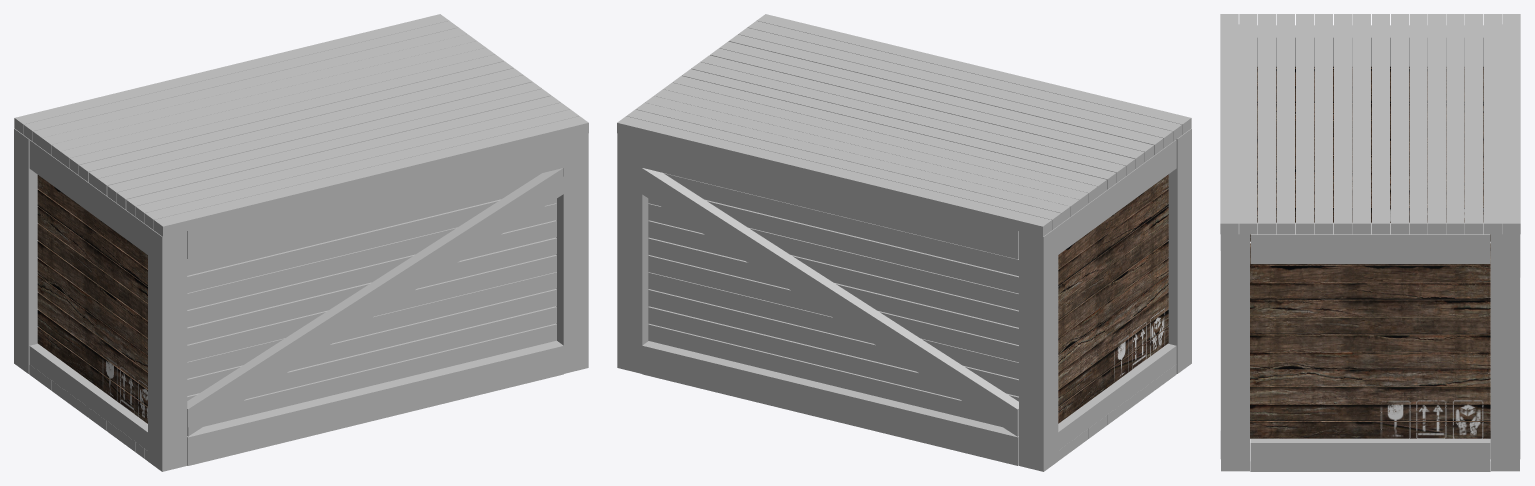
The picture shows the model from 3 angles, left to right: view 1: azimuth 30°, elevation 25°; view 2: azimuth 150°, elevation 25°; view 3: azimuth 270°, elevation 25°; orthographic projection.
Parts seen in each view (by area): view 1: Model_031_Crate_Box_08, Model_031_Crate_Box_04, Model_031_Crate_Box_02, Model_031_Crate_Box_07, Model_031_Crate_Box_10, Model_031_Crate_Box_03, Model_031_Crate_Box_00, Model_031_Crate_Box_01, Model_031_Crate_Box_09; view 2: Model_031_Crate_Box_08, Model_031_Crate_Box_05, Model_031_Crate_Box_02, Model_031_Crate_Box_07, Model_031_Crate_Box_10, Model_031_Crate_Box_03, Model_031_Crate_Box_00, Model_031_Crate_Box_01, Model_031_Crate_Box_09; view 3: Model_031_Crate_Box_08, Model_031_Crate_Box_06, Model_031_Crate_Box_01, Model_031_Crate_Box_00, Model_031_Crate_Box_07, Model_031_Crate_Box_02.
Part boxes in pixels (<box>): Model_031_Crate_Box_08: <box>14,14,588,236</box>; Model_031_Crate_Box_04: <box>187,173,556,426</box>; Model_031_Crate_Box_02: <box>187,139,563,465</box>; Model_031_Crate_Box_07: <box>37,175,147,423</box>; Model_031_Crate_Box_10: <box>14,128,187,471</box>; Model_031_Crate_Box_03: <box>187,168,563,436</box>; Model_031_Crate_Box_00: <box>556,133,588,373</box>; Model_031_Crate_Box_01: <box>29,140,147,450</box>; Model_031_Crate_Box_09: <box>29,364,147,460</box>; Model_031_Crate_Box_08: <box>617,14,1191,236</box>; Model_031_Crate_Box_05: <box>648,173,1018,426</box>; Model_031_Crate_Box_02: <box>642,139,1018,465</box>; Model_031_Crate_Box_07: <box>1058,174,1168,423</box>; Model_031_Crate_Box_10: <box>1019,128,1191,471</box>; Model_031_Crate_Box_03: <box>642,168,1018,436</box>; Model_031_Crate_Box_00: <box>617,133,649,373</box>; Model_031_Crate_Box_01: <box>1058,140,1176,451</box>; Model_031_Crate_Box_09: <box>1058,364,1176,460</box>; Model_031_Crate_Box_08: <box>1220,14,1520,234</box>; Model_031_Crate_Box_06: <box>1250,243,1490,438</box>; Model_031_Crate_Box_01: <box>1250,25,1490,471</box>; Model_031_Crate_Box_00: <box>1221,222,1519,471</box>; Model_031_Crate_Box_07: <box>1250,66,1490,241</box>; Model_031_Crate_Box_02: <box>1220,37,1520,458</box>.
Bounding box in the file's own units: 67.35 × 37.08 × 40.62.
